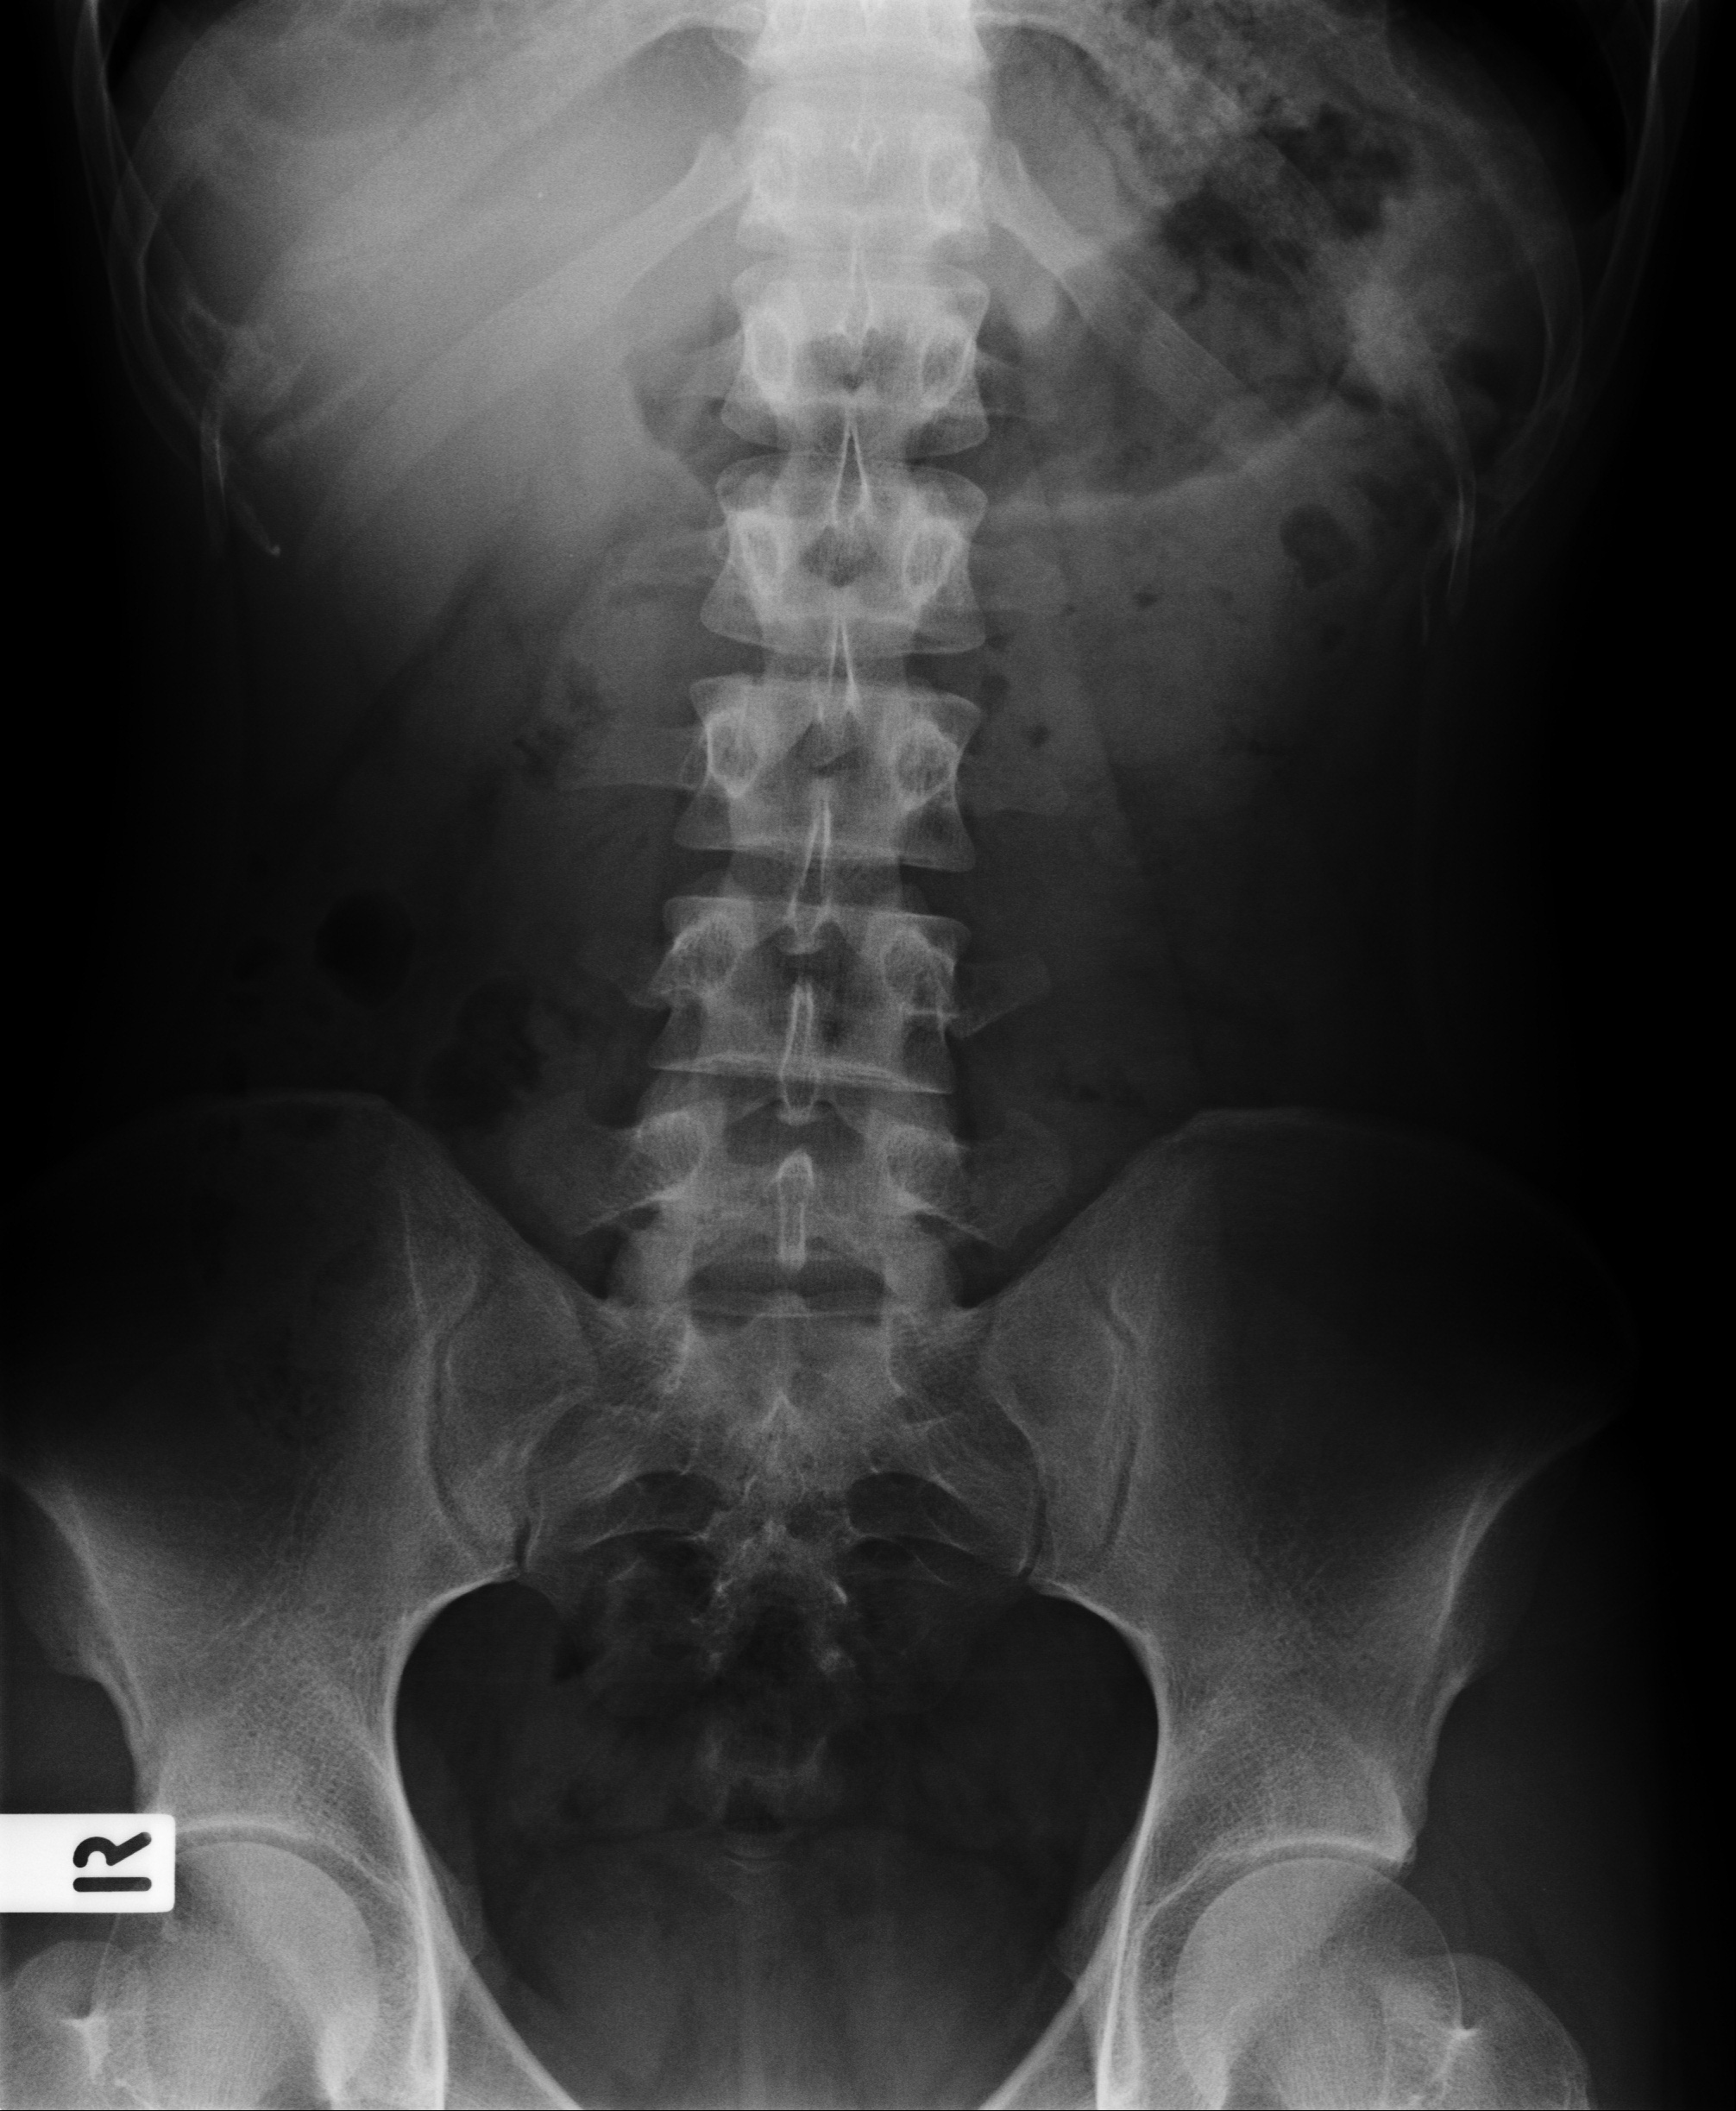lumbar scoliosis: (647, 7, 1005, 1406)
